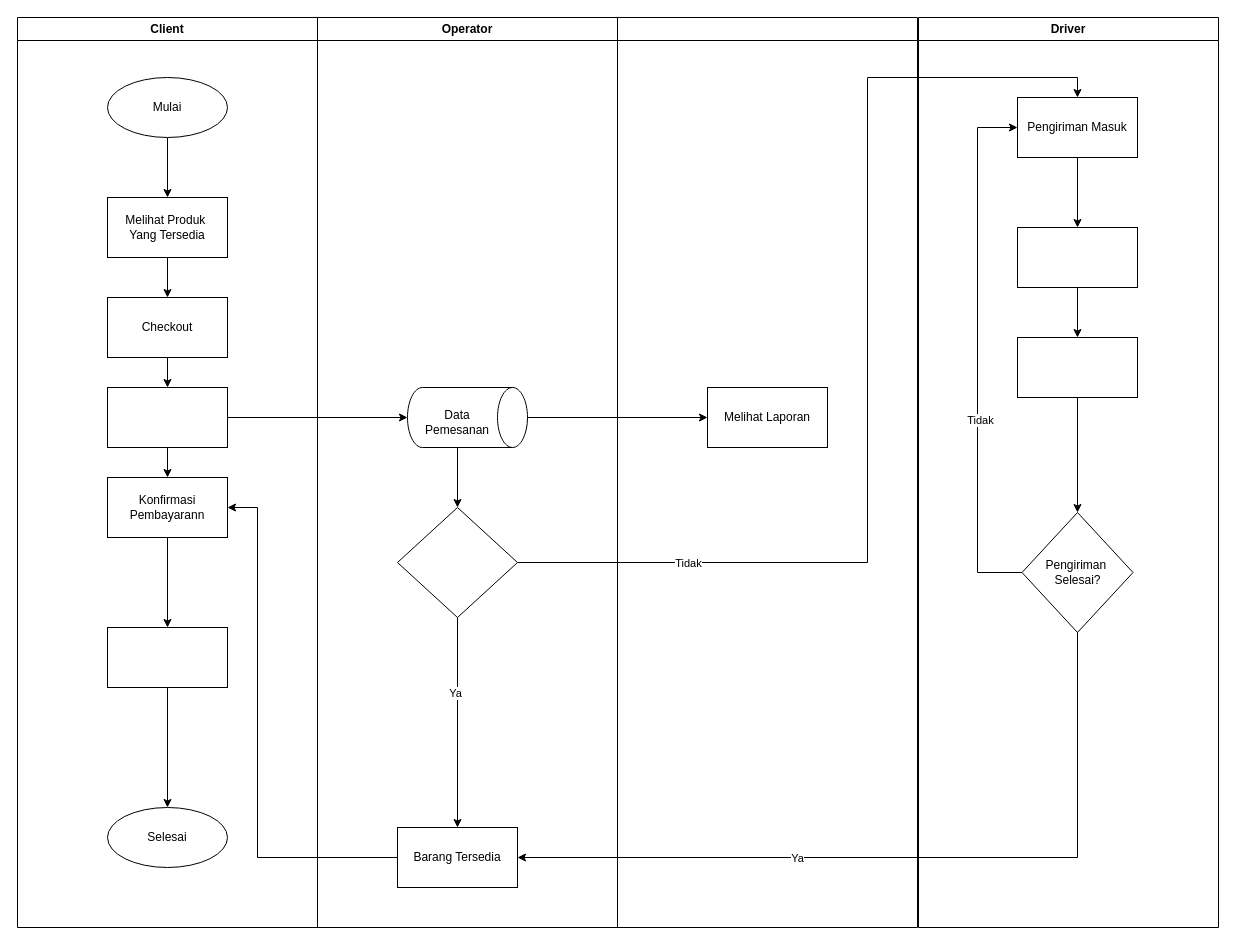
Image size: 1236x945. Some labels were removed from this diagram. Each missing label, with the box of its shape:
Administrator: (616, 16, 918, 928)
Cek Ketersediaan Produk?: (396, 506, 518, 618)
Menerima Barang Dipesan: (106, 626, 228, 688)
Mengelola Catatan Pengiriman: (1016, 336, 1138, 398)
Mengelola Pesanan: (1016, 226, 1138, 288)
Pengisian Data Belanja: (106, 386, 228, 448)
